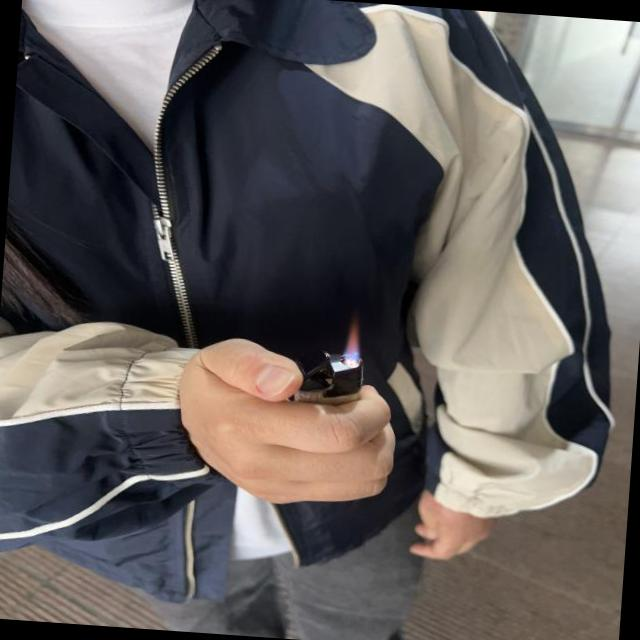Fire: (338, 316, 362, 366)
